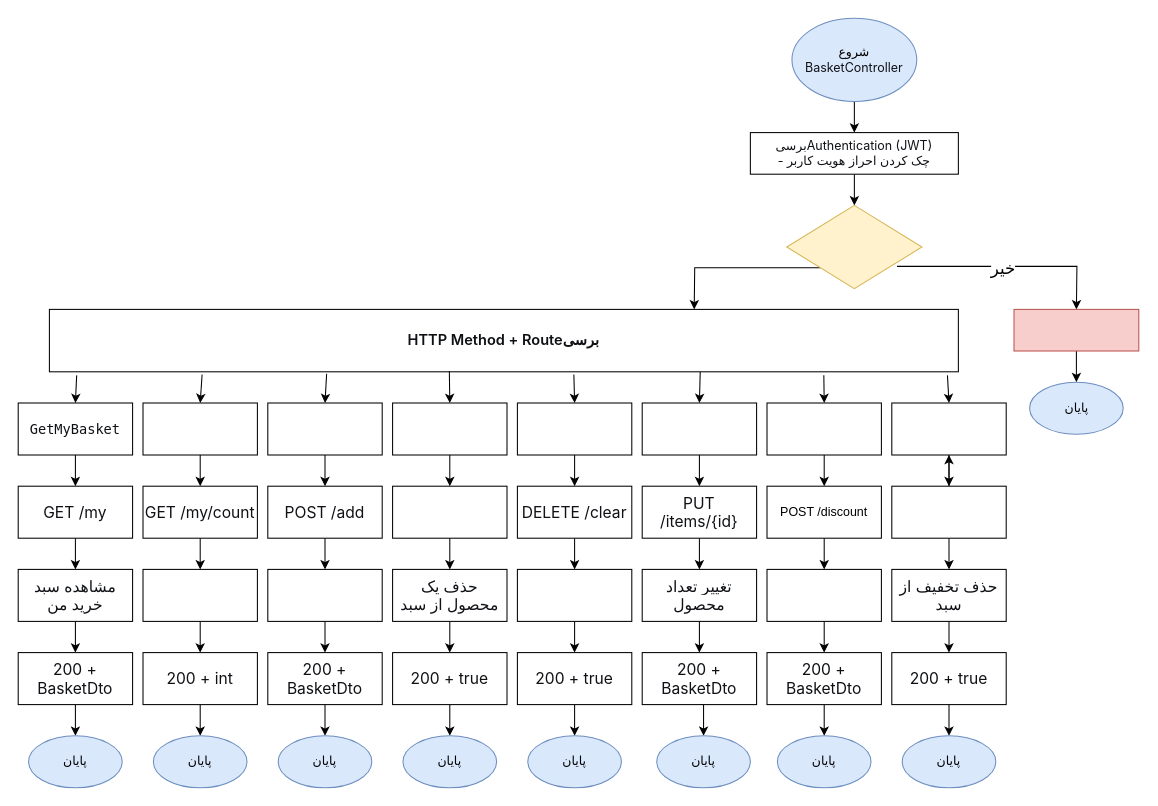
Image size: 1158x806. Some labels were removed from this diagram. The shapes that lost their labels are listed below. From the top down, each one's box as (x1, y1, x2, y2) in pixels, then its label:
(786, 204, 922, 289): کاربر احراز هویت شد؟
(1013, 308, 1139, 351): Unauthorized
(142, 402, 257, 455): GetBasketItemsCount
(267, 402, 382, 455): AddToBasket
(392, 402, 507, 455): RemoveBasketItem
(516, 402, 632, 455): ClearBasket
(641, 402, 757, 455): UpdateBasketItem
(766, 402, 881, 455): ApplyDiscount
(891, 402, 1006, 455): RemoveDiscount
(392, 485, 507, 538): DELETE /items/{id}
(891, 485, 1006, 538): DELETE /discount
(142, 568, 257, 621): تعداد آیتم‌های سبد
(267, 568, 382, 621): اضافه کردن محصول به سبد
(516, 568, 632, 621): خالی کردن کل سبد
(766, 568, 881, 621): اعمال کد تخفیف
